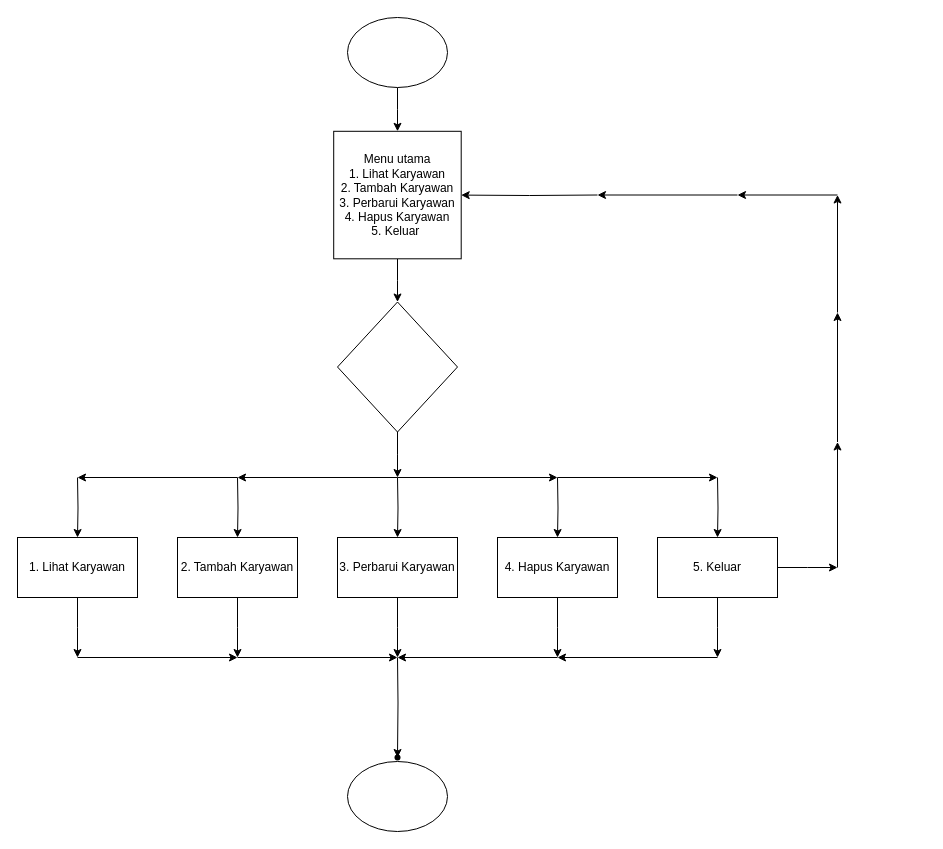
Some shapes in this 943 by 849 pixel diagram are drawn without their labels. Each missing label, with the centre of its shape:
"End" goes at [397,796].
"Pilihan menu" goes at [397,366].
"Start" goes at [397,52].
